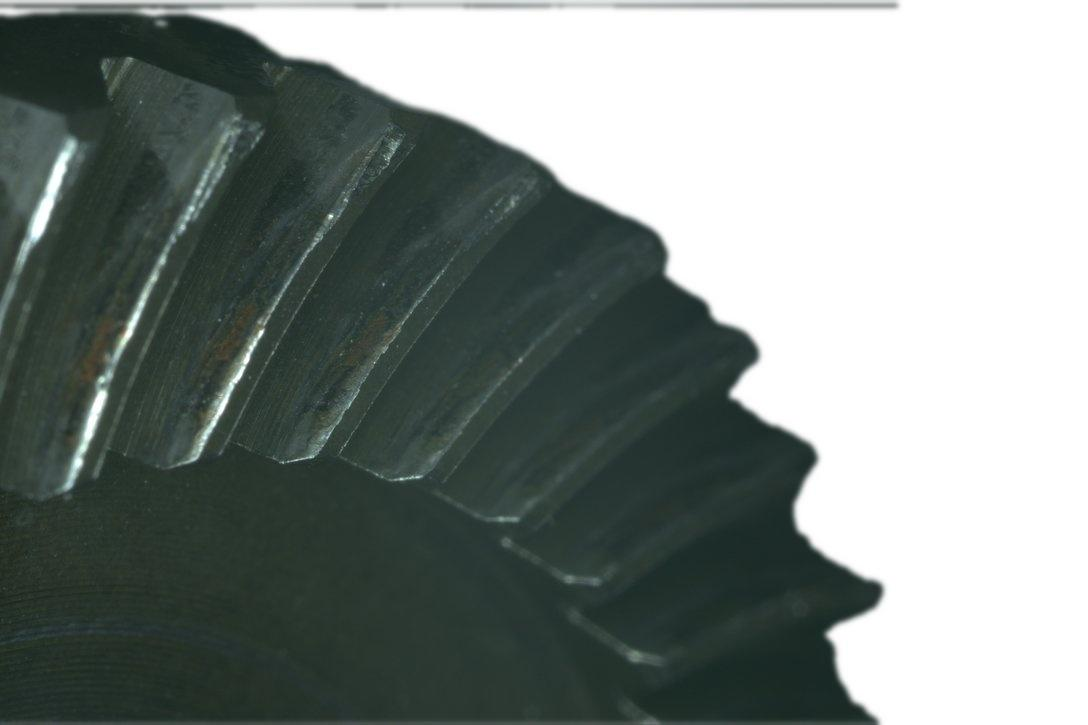defect: (181, 110, 276, 223), (449, 164, 540, 243), (353, 126, 400, 191)
